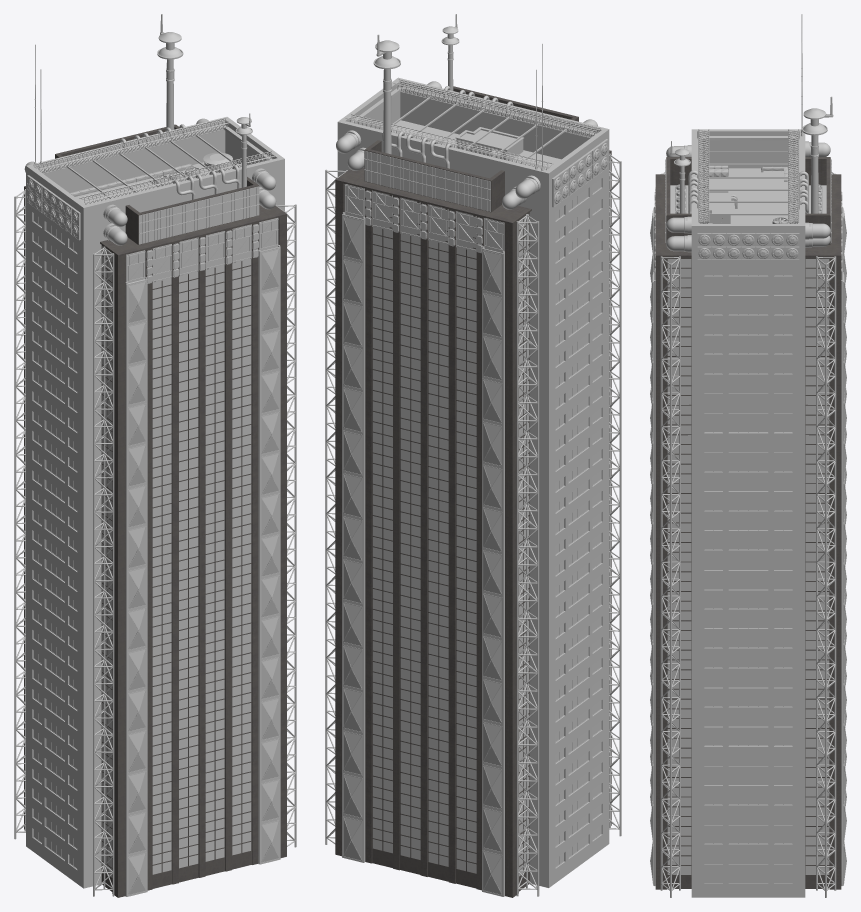
File: broadcast_center.obj
3 views of the same model, side by side, from view 1: azimuth 30°, elevation 25°; view 2: azimuth 150°, elevation 25°; view 3: azimuth 270°, elevation 25° (orthographic). The views are drawn at different scales.
Visible parts, largest first — view 1: KB3D_NEC_BldgLG_B_Main, KB3D_NEC_BldgLG_B_AntennaA; view 2: KB3D_NEC_BldgLG_B_Main, KB3D_NEC_BldgLG_B_AntennaA; view 3: KB3D_NEC_BldgLG_B_Main, KB3D_NEC_BldgLG_B_AntennaA.
Part boxes in pixels (left/top/right/bottom): KB3D_NEC_BldgLG_B_Main: left=14, top=44, right=296, bottom=897; KB3D_NEC_BldgLG_B_AntennaA: left=157, top=14, right=183, bottom=130; KB3D_NEC_BldgLG_B_Main: left=325, top=14, right=621, bottom=897; KB3D_NEC_BldgLG_B_AntennaA: left=373, top=34, right=400, bottom=154; KB3D_NEC_BldgLG_B_Main: left=650, top=14, right=846, bottom=897; KB3D_NEC_BldgLG_B_AntennaA: left=802, top=96, right=833, bottom=213.
Bounding box in the file's own units: 54.57 × 201 × 45.38.
